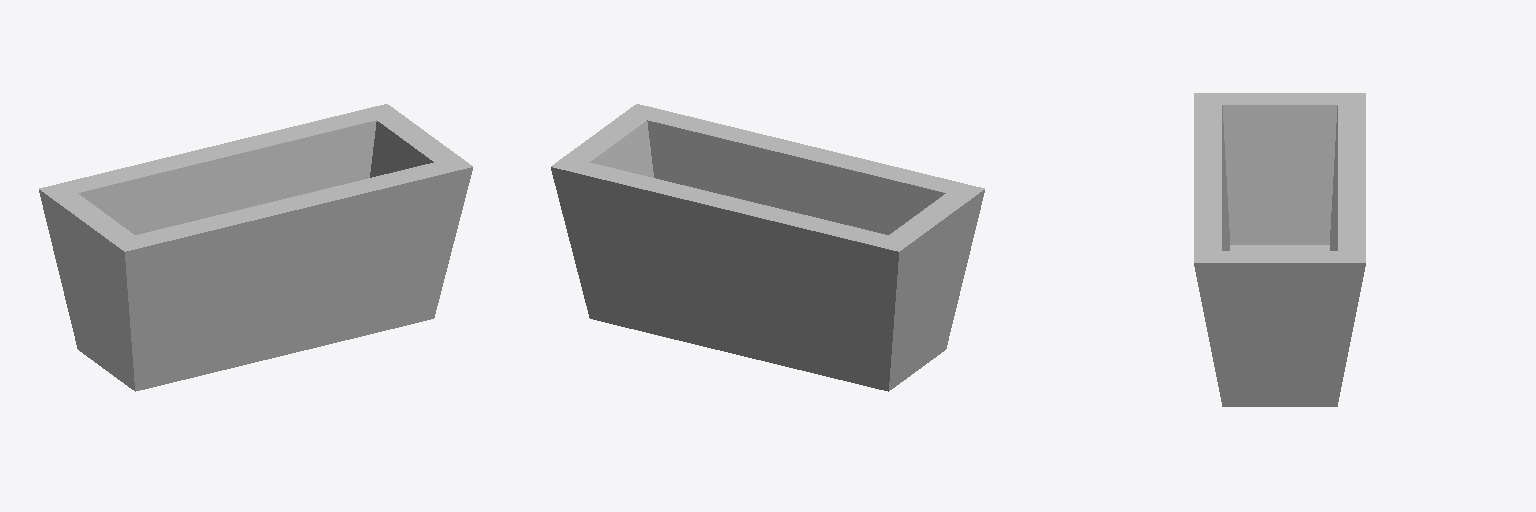
The model's file is chest-body.obj.
The picture shows the model from 3 angles: view 1: azimuth 30°, elevation 25°; view 2: azimuth 150°, elevation 25°; view 3: azimuth 270°, elevation 25°; orthographic projection.
Parts seen in each view (by area): view 1: chest-body; view 2: chest-body; view 3: chest-body.
Boxes of the visible parts, x1,y1,x2,y2 form: chest-body: [39, 104, 472, 391]; chest-body: [551, 104, 984, 391]; chest-body: [1194, 93, 1365, 406].
Bounding box in the file's own units: 1.4 × 0.6 × 0.6.